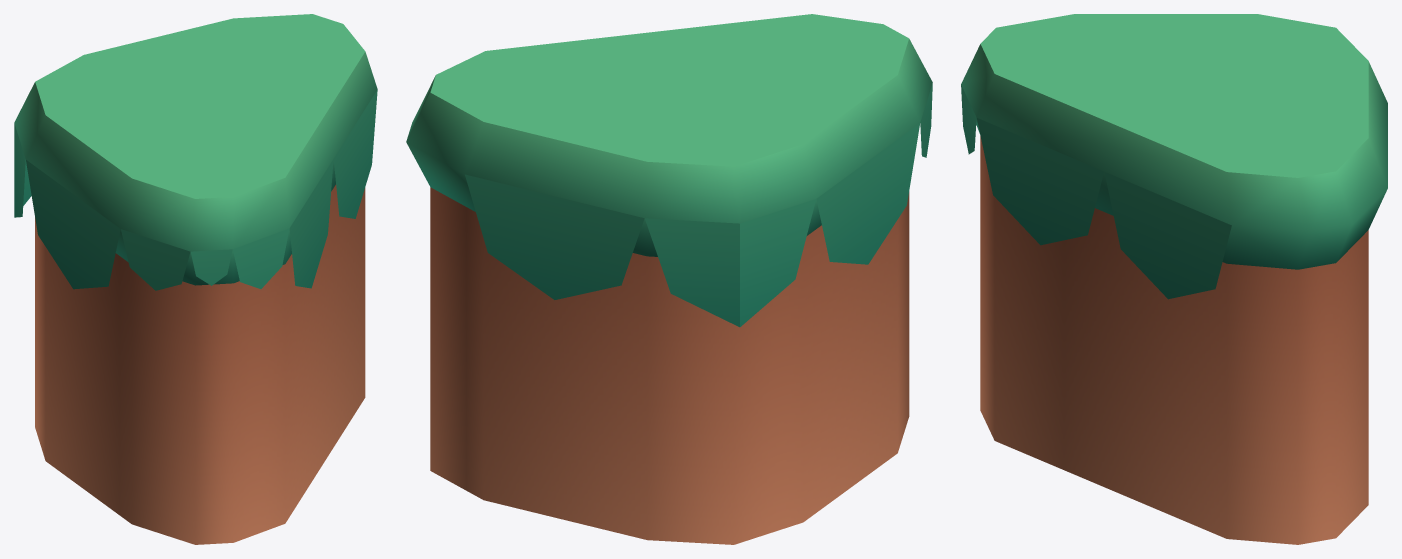
Rendered from block-grass-corner-overhang.glb.
3 renders of one model, left to right at view 1: azimuth 30°, elevation 25°; view 2: azimuth 150°, elevation 25°; view 3: azimuth 270°, elevation 25°, orthographic. The views are drawn at different scales.
Parts seen in each view (by area): view 1: block-grass-corner-overhang; view 2: block-grass-corner-overhang; view 3: block-grass-corner-overhang.
Part boxes in pixels (x1,y1,x2,y2): block-grass-corner-overhang: [14, 14, 377, 544]; block-grass-corner-overhang: [406, 14, 932, 544]; block-grass-corner-overhang: [961, 14, 1387, 544].
Bounding box in the file's own units: 1.05 × 1 × 1.05.
Materials: 1 (1 with a texture image).
